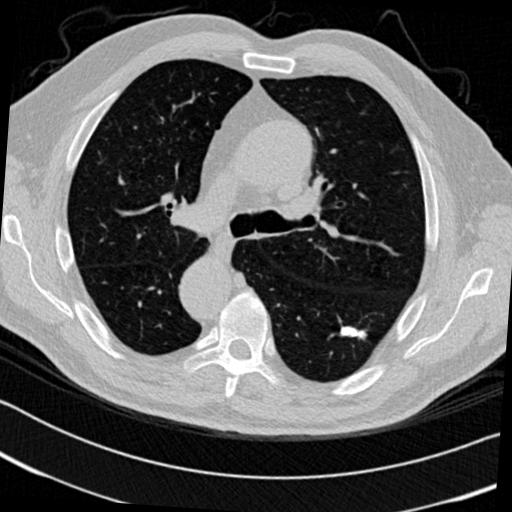nodule: (343, 320, 366, 343)
